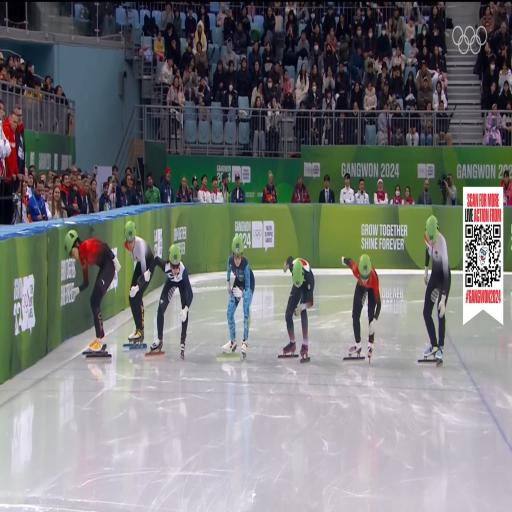Skater: (64, 230, 120, 355), (149, 244, 193, 358), (342, 255, 381, 360), (424, 216, 450, 363), (223, 235, 254, 358), (125, 221, 153, 346), (282, 256, 314, 362)
